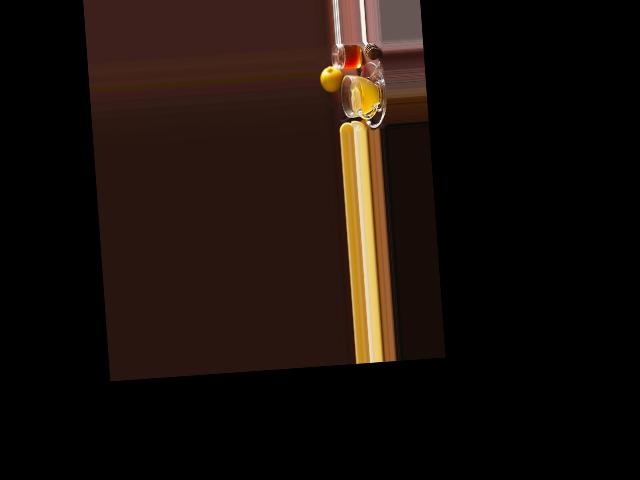lemon: (318, 63, 345, 96)
